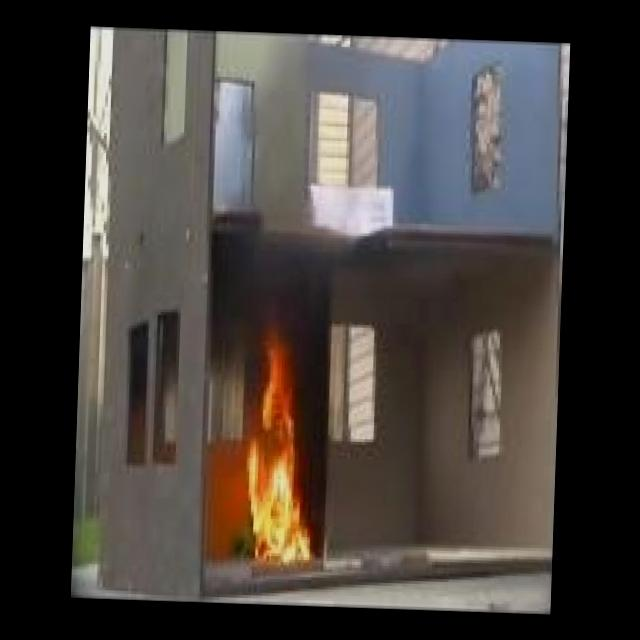fire: (226, 330, 340, 571)
